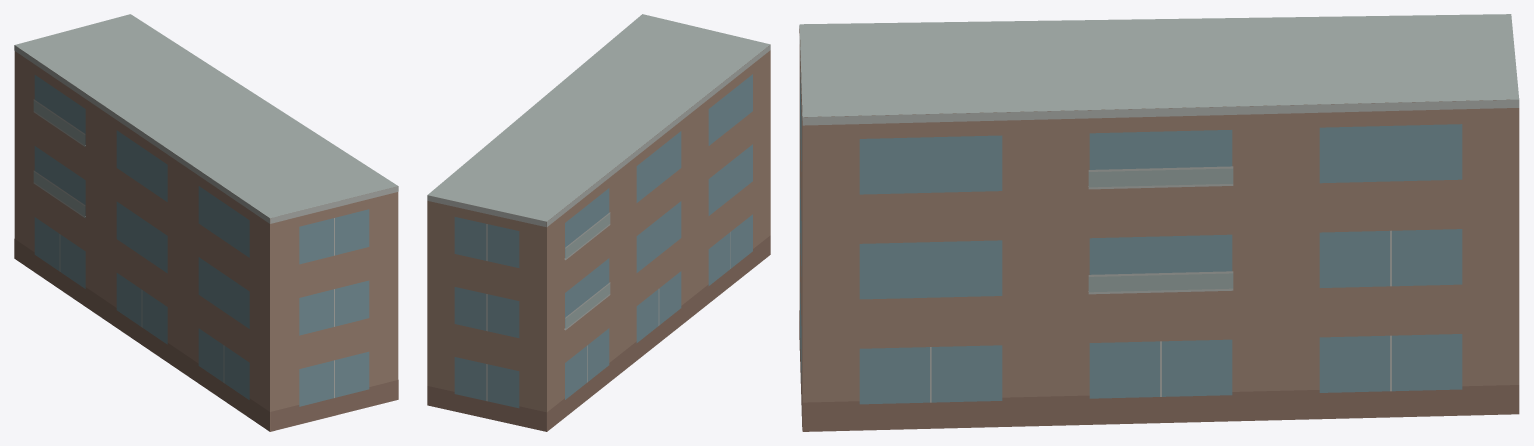
File: survey-upis-32728899.glb
3 renders of one model, left to right at view 1: azimuth 30°, elevation 25°; view 2: azimuth 150°, elevation 25°; view 3: azimuth 270°, elevation 25°, orthographic. The views are drawn at different scales.
Visible parts, largest first — view 1: survey-upis-32728899.tmp; view 2: survey-upis-32728899.tmp; view 3: survey-upis-32728899.tmp.
Part boxes in pixels (x1,y1,x2,y2): survey-upis-32728899.tmp: (14,14,398,431); survey-upis-32728899.tmp: (427,14,770,431); survey-upis-32728899.tmp: (799,14,1519,431).
Bounding box in the file's own units: 6.44 × 9.15 × 18.97.
